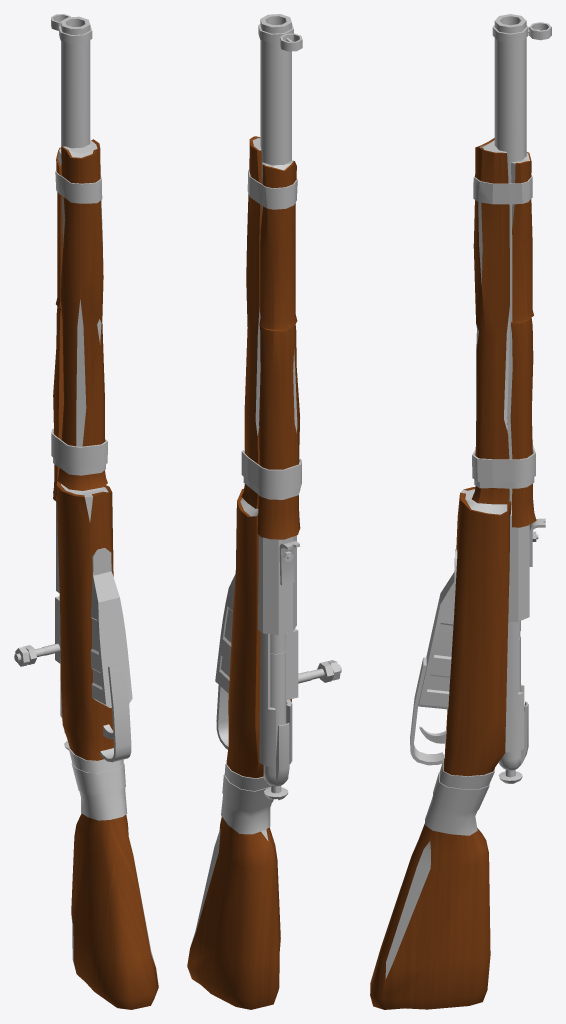
Rendered from MosinNS_Preview.fbx.
3 views of the same model, side by side, from view 1: azimuth 30°, elevation 25°; view 2: azimuth 210°, elevation 25°; view 3: azimuth 270°, elevation 25° (orthographic). The views are drawn at different scales.
Parts seen in each view (by area): view 1: Wood; view 2: Wood; view 3: Wood.
Boxes of the visible parts, bbox=[...] form: Wood: bbox=[14, 14, 158, 1009]; Wood: bbox=[187, 14, 341, 1009]; Wood: bbox=[370, 14, 551, 1009].
Size of the model in its own units: 0.5654 by 6.03 by 1.01.
